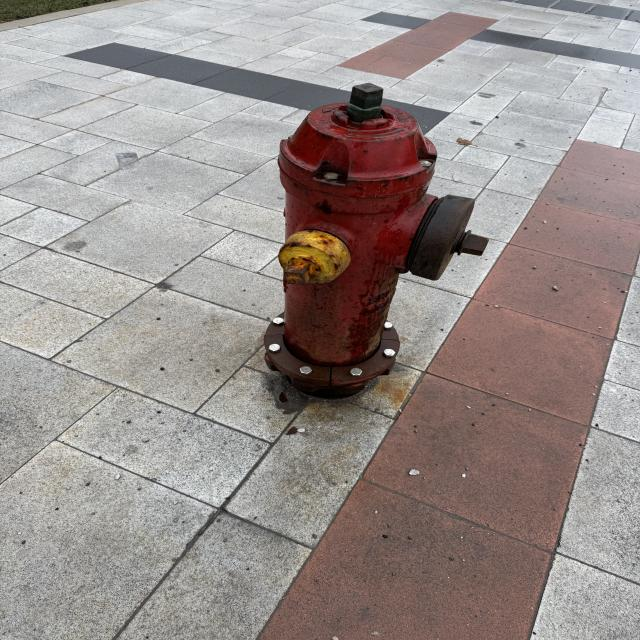Fire hydrant: (262, 83, 491, 395)
